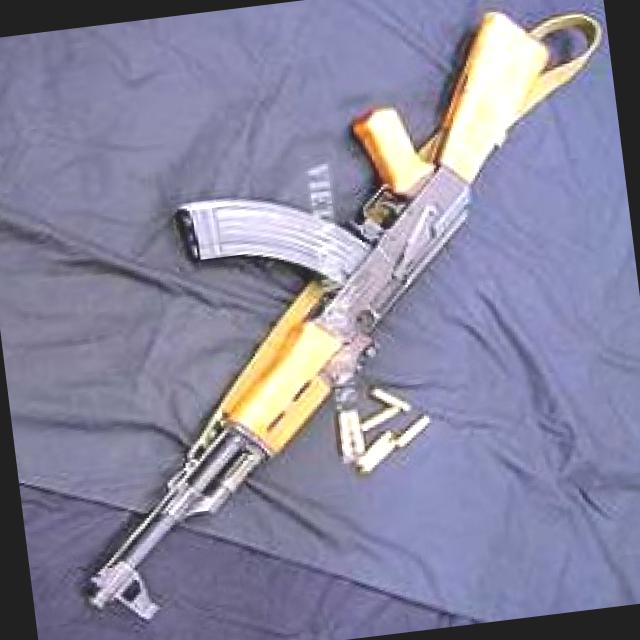long weapon: (59, 0, 579, 640)
